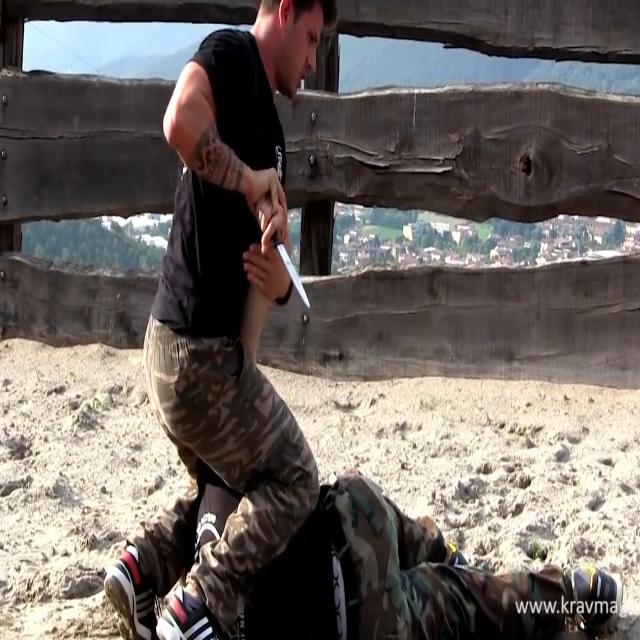knife: (275, 228, 315, 316)
